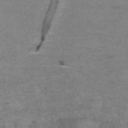finishing roll printing: (34, 0, 60, 52), (58, 60, 64, 66)
